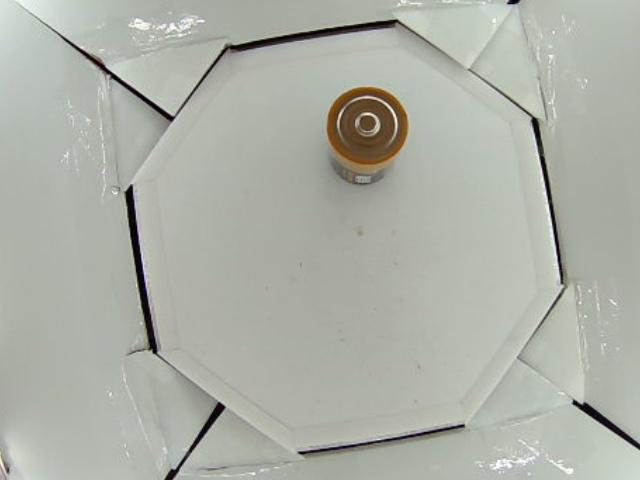Battery: (328, 87, 407, 185)
